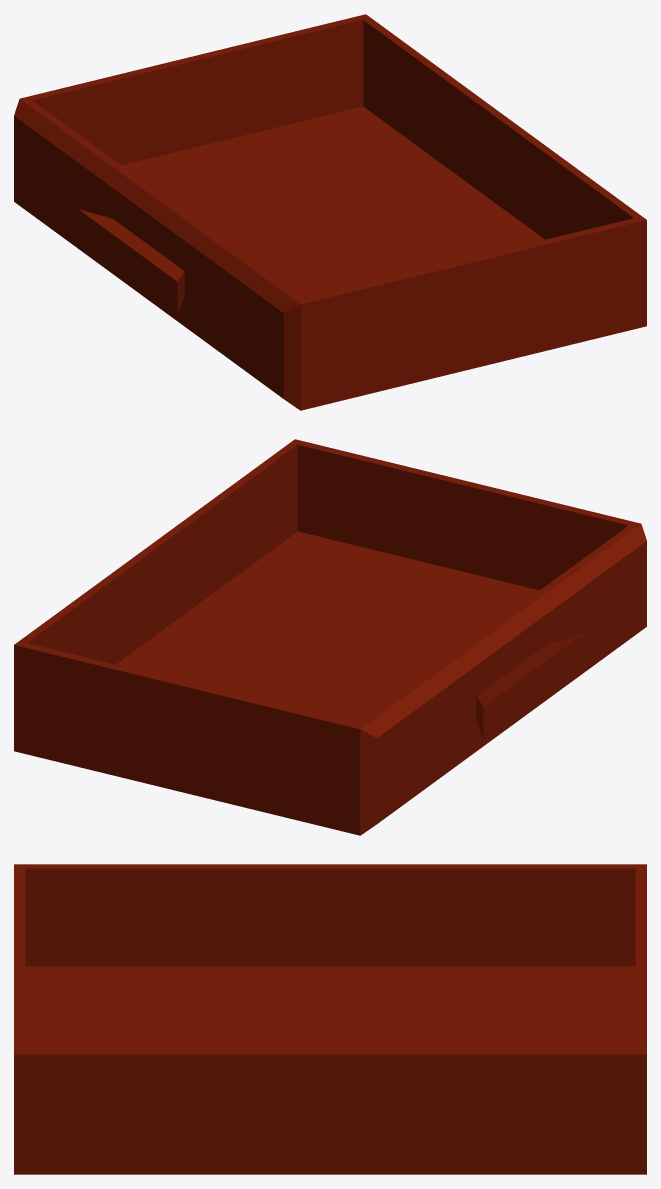
The model's file is m_DresserDoor01.FBX.
3 views of the same model, one above another, from view 1: azimuth 30°, elevation 25°; view 2: azimuth 150°, elevation 25°; view 3: azimuth 270°, elevation 25° (orthographic). The views are drawn at different scales.
Parts seen in each view (by area): view 1: DresserDoor01; view 2: DresserDoor01; view 3: DresserDoor01.
Boxes of the visible parts, <box> form: DresserDoor01: <box>14,14,646,410</box>; DresserDoor01: <box>14,439,646,835</box>; DresserDoor01: <box>14,864,646,1174</box>.
Bounding box in the file's own units: 43.42 × 55.8 × 11.65.
